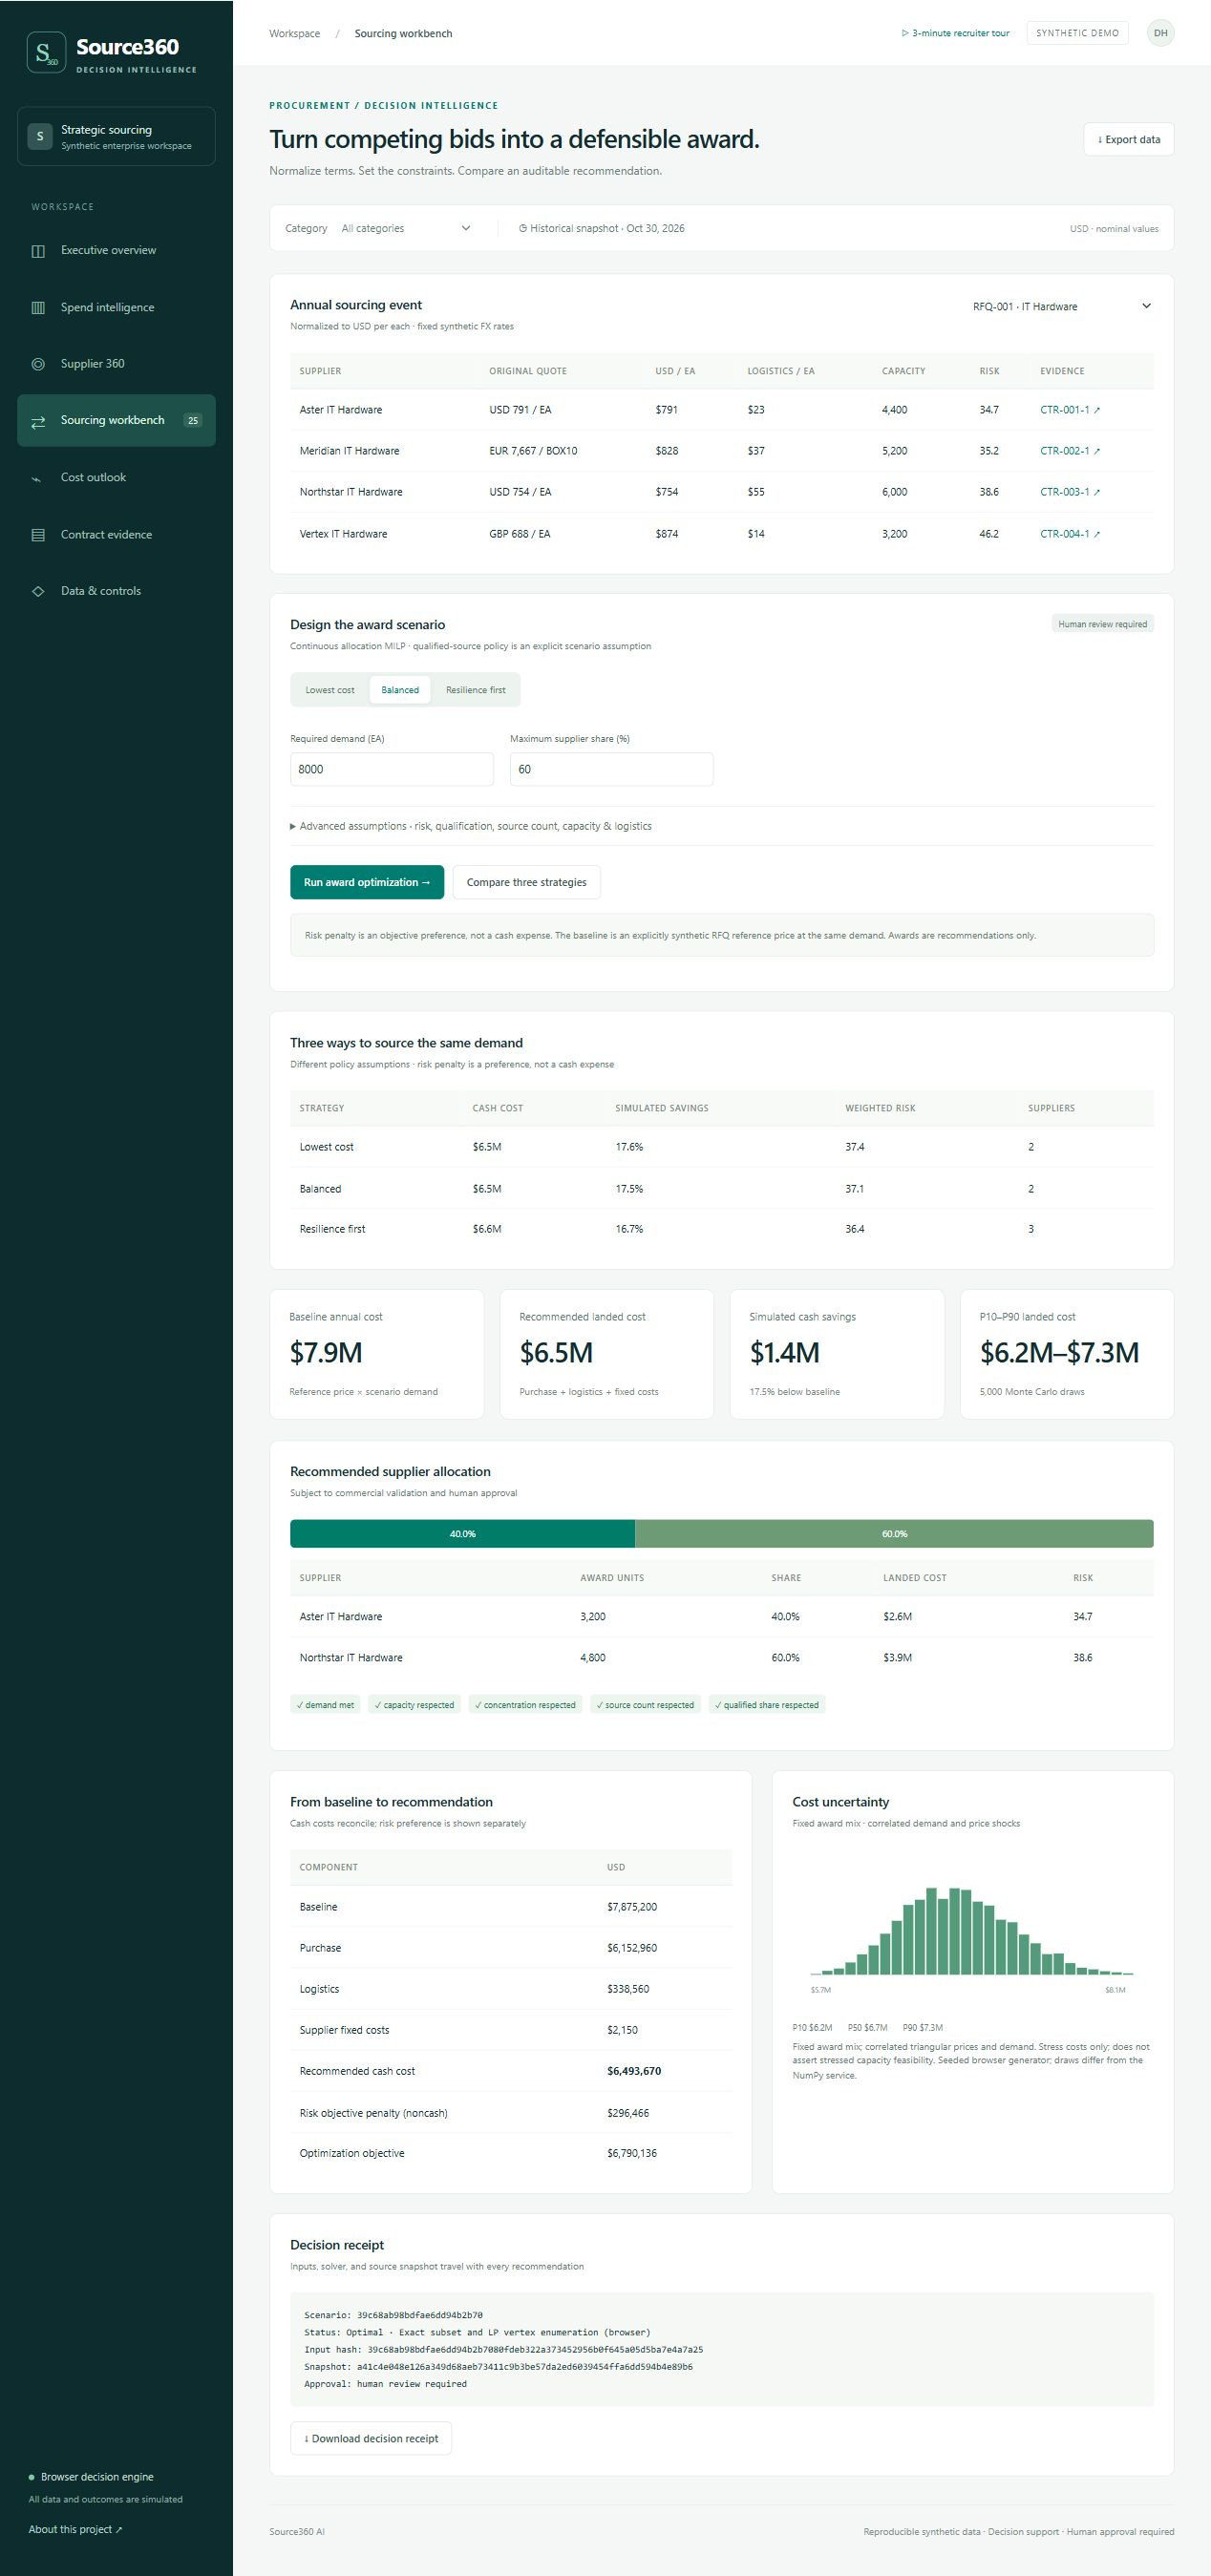

The dashboard page shown, as its layout file describes it:
{"tool":"powerbi","page":{"name":"Modeled award | IT Hardware","canvas":[1280,720],"ordinal":2},"visuals":[{"type":"card","fields":{"Values":["Sum(Decision.Baseline)"]},"box":[20,20,395,130],"z":0},{"type":"card","fields":{"Values":["Sum(Decision.CashCost)"]},"box":[435,20,395,130],"z":0},{"type":"card","fields":{"Values":["Sum(Decision.ModeledSavings)"]},"box":[850,20,395,130],"z":0},{"type":"card","fields":{"Values":["Sum(Decision.SavingsRate)"]},"box":[20,165,395,130],"z":0},{"type":"card","fields":{"Values":["Sum(Decision.CostP10)"]},"box":[435,165,395,130],"z":0},{"type":"card","fields":{"Values":["Sum(Decision.CostP90)"]},"box":[850,165,395,130],"z":0},{"type":"tableEx","fields":{"Values":["Award.Supplier","Award.Quantity","Award.Share","Award.CashCost","Award.Risk"]},"box":[20,330,1240,350],"z":0}]}

Visuals, with their boxes on the page's 1280x720 design canvas (x1, y1, x2, y2). These are canvas units, not pixel positions in the 1211x2576 screenshot, which may show the page scaled, cropped or inside an application window:
card - Sum(Decision.Baseline): <region>20, 20, 415, 150</region>
card - Sum(Decision.CashCost): <region>435, 20, 830, 150</region>
card - Sum(Decision.ModeledSavings): <region>850, 20, 1245, 150</region>
card - Sum(Decision.SavingsRate): <region>20, 165, 415, 295</region>
card - Sum(Decision.CostP10): <region>435, 165, 830, 295</region>
card - Sum(Decision.CostP90): <region>850, 165, 1245, 295</region>
tableEx - Award.Supplier x Award.Quantity: <region>20, 330, 1260, 680</region>
